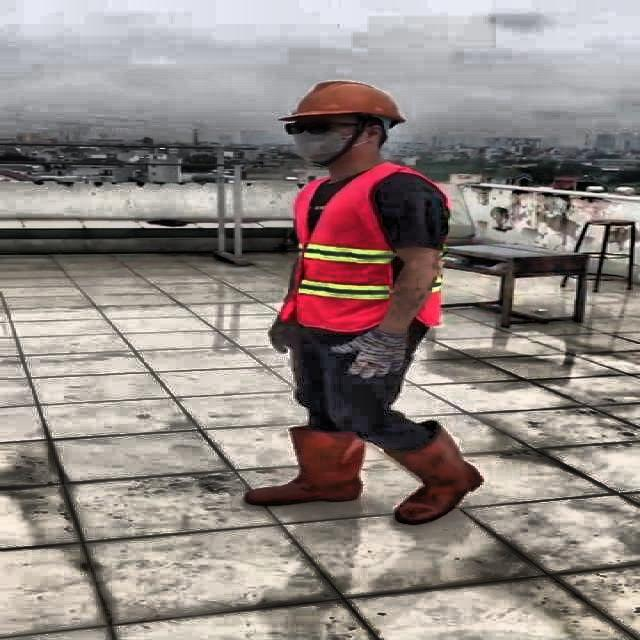safety_helmet: (274, 80, 400, 125)
safety_jacket: (283, 169, 448, 329)
